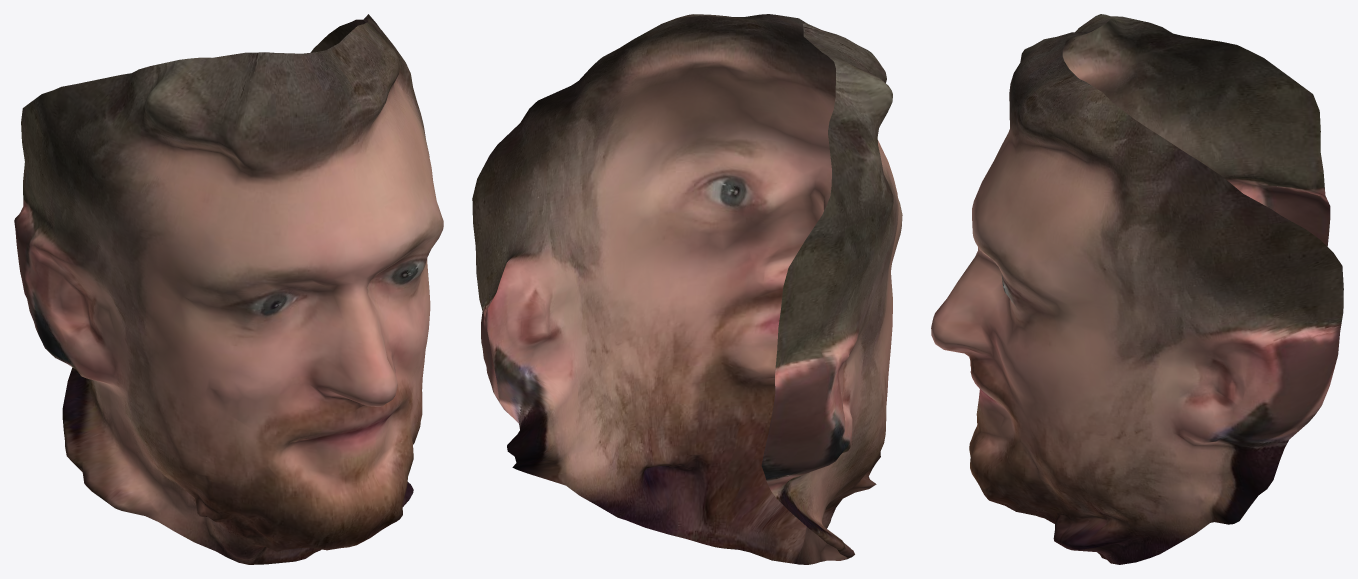
The model's file is headScanLow.glb.
3 views of the same model, side by side, from view 1: azimuth 30°, elevation 25°; view 2: azimuth 150°, elevation 25°; view 3: azimuth 270°, elevation 25° (orthographic). The views are drawn at different scales.
Parts seen in each view (by area): view 1: Node; view 2: Node; view 3: Node.
Part boxes in pixels (<box>): Node: <box>14,14,443,564</box>; Node: <box>472,14,902,564</box>; Node: <box>931,14,1343,564</box>.
Bounding box in the file's own units: 182 × 267 × 202.
Materials: 1 (1 with a texture image).
